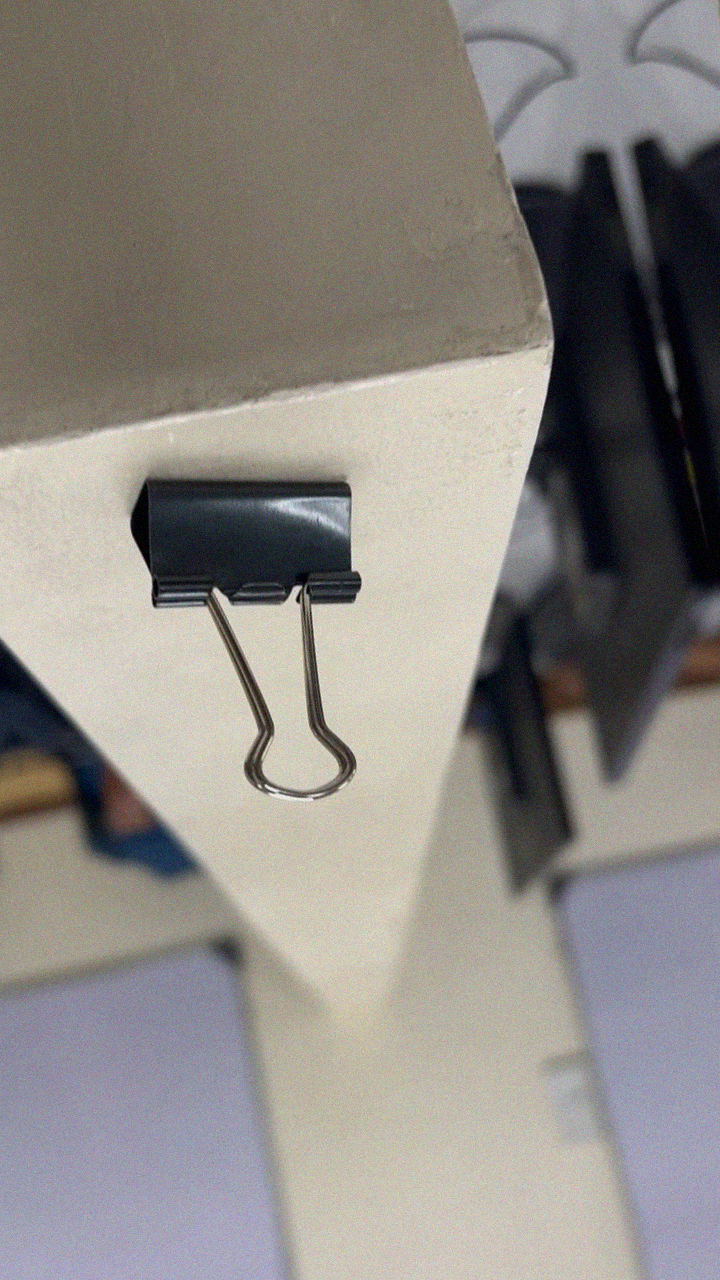kep_giay: (114, 439, 418, 832)
